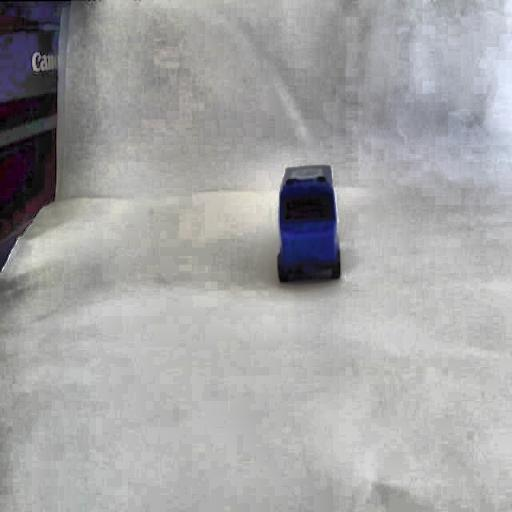police car: (272, 158, 344, 288)
